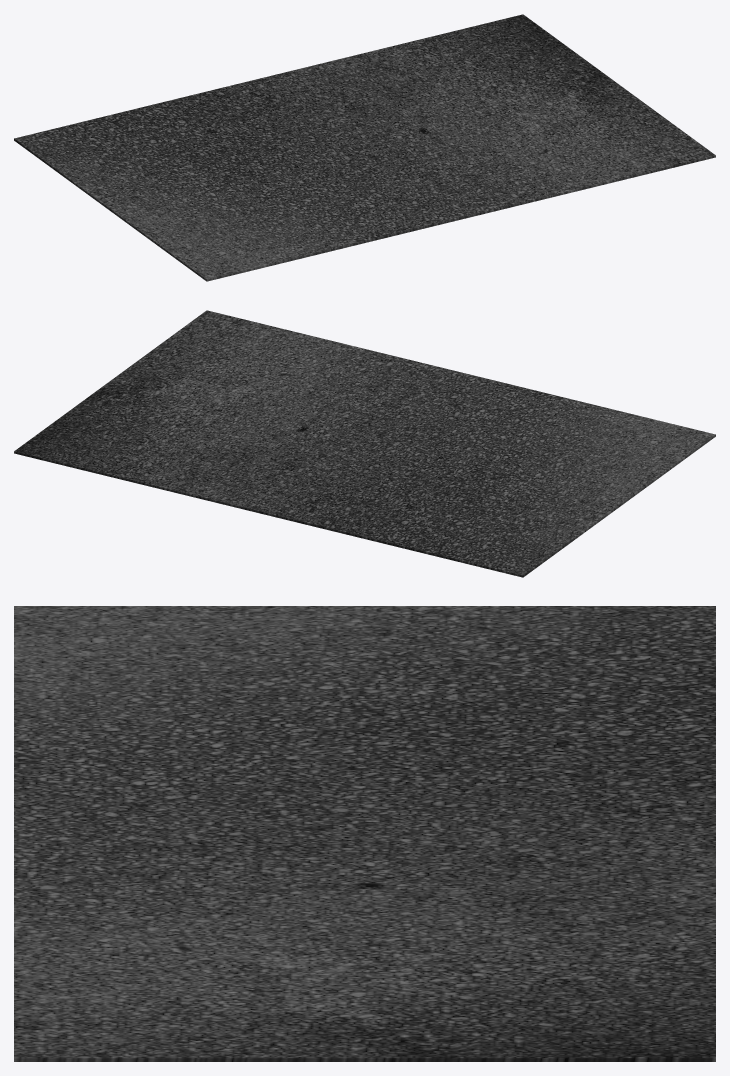
Rendered from asfalto2.obj.
3 renders of one model, top to bottom at view 1: azimuth 30°, elevation 25°; view 2: azimuth 150°, elevation 25°; view 3: azimuth 270°, elevation 25°, orthographic. The views are drawn at different scales.
Visible parts, largest first — view 1: asfalto2:pCube10 group114; view 2: asfalto2:pCube10 group114; view 3: asfalto2:pCube10 group114.
Part boxes in pixels (x1,y1,x2,y2): asfalto2:pCube10 group114: (14, 14, 715, 281); asfalto2:pCube10 group114: (14, 310, 715, 577); asfalto2:pCube10 group114: (14, 606, 715, 1061).
Bounding box in the file's own units: 52.81 × 0.2003 × 34.64.
Materials: 1 (1 with a texture image).
